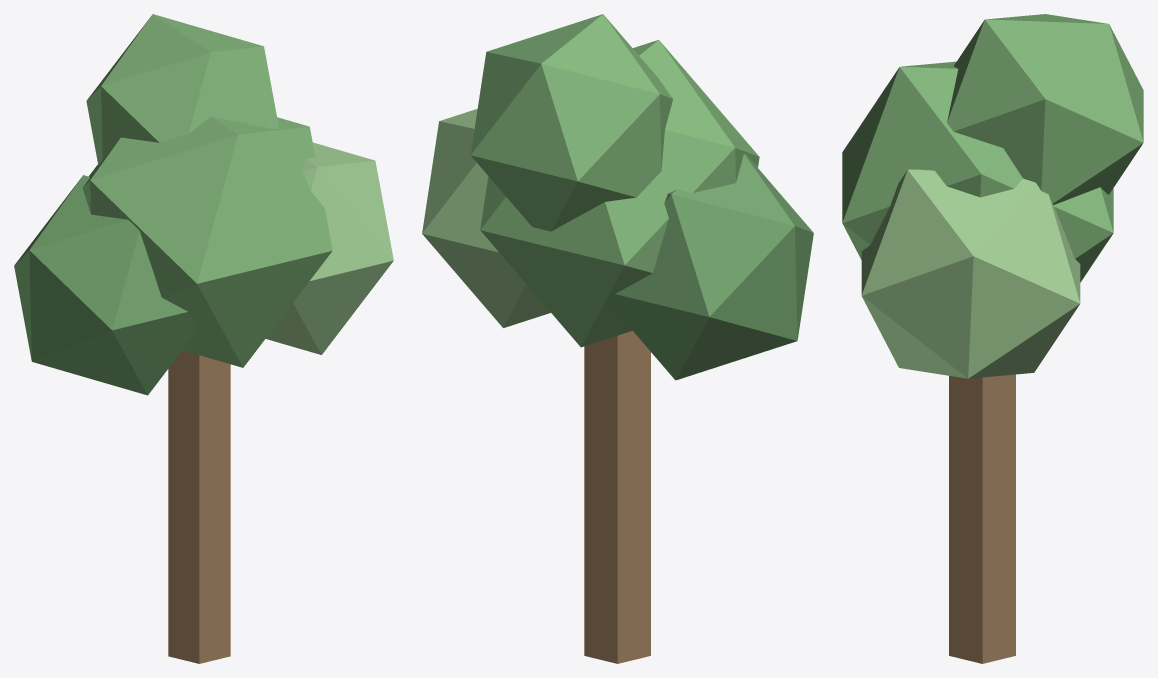
Rendered from animprop_tree_04.glb.
3 views of the same model, side by side, from view 1: azimuth 30°, elevation 25°; view 2: azimuth 150°, elevation 25°; view 3: azimuth 270°, elevation 25° (orthographic). The views are drawn at different scales.
Parts seen in each view (by area): view 1: animprop; view 2: animprop; view 3: animprop.
Part boxes in pixels (x1,y1,x2,y2): animprop: (14,14,393,663); animprop: (422,14,813,663); animprop: (842,14,1143,663).
Size of the model in its own units: 1.63 by 2.72 by 1.17.
